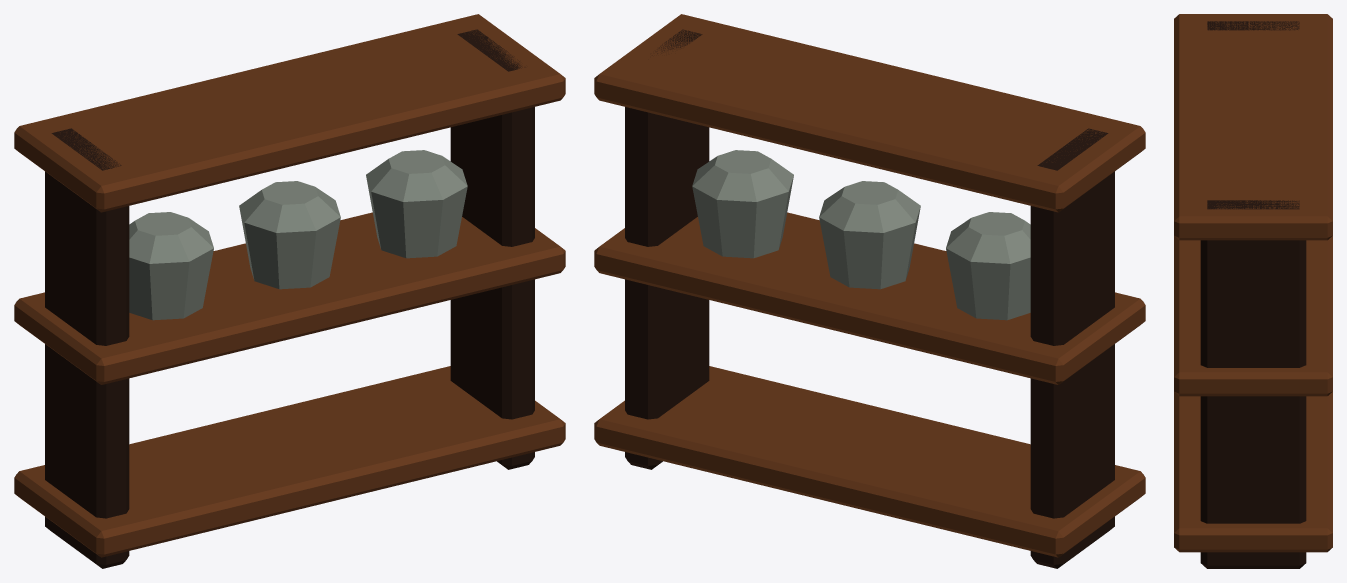
The model's file is Estante_de_potes_LOD0.fbx.
3 views of the same model, side by side, from view 1: azimuth 30°, elevation 25°; view 2: azimuth 150°, elevation 25°; view 3: azimuth 270°, elevation 25° (orthographic). The views are drawn at different scales.
Visible parts, largest first — view 1: Estante_de_potes_LOD0; view 2: Estante_de_potes_LOD0; view 3: Estante_de_potes_LOD0.
Boxes of the visible parts, x1,y1,x2,y2 form: Estante_de_potes_LOD0: (14, 14, 565, 568); Estante_de_potes_LOD0: (594, 14, 1145, 568); Estante_de_potes_LOD0: (1174, 14, 1332, 568).
Bounding box in the file's own units: 185 × 150 × 60.
1 material, 1 textured.
